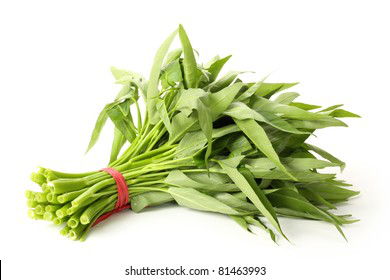Kangkung: (35, 30, 368, 251)
